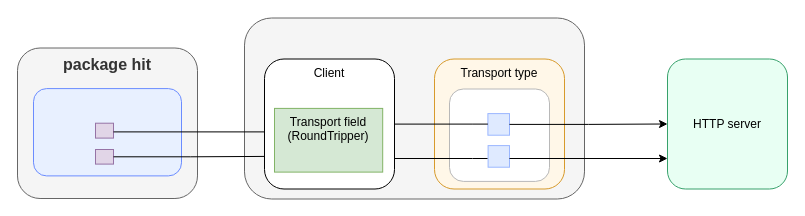
The diagram is 805 pixels wide and 216 high, and some of its shapes have lost their labels. The box of each missing label's shape, as (x1, y1, x2, y2) in pixels:
Connection pool: (448, 88, 550, 181)
Goroutines: (32, 88, 182, 176)
package net/http: (244, 17, 584, 199)
